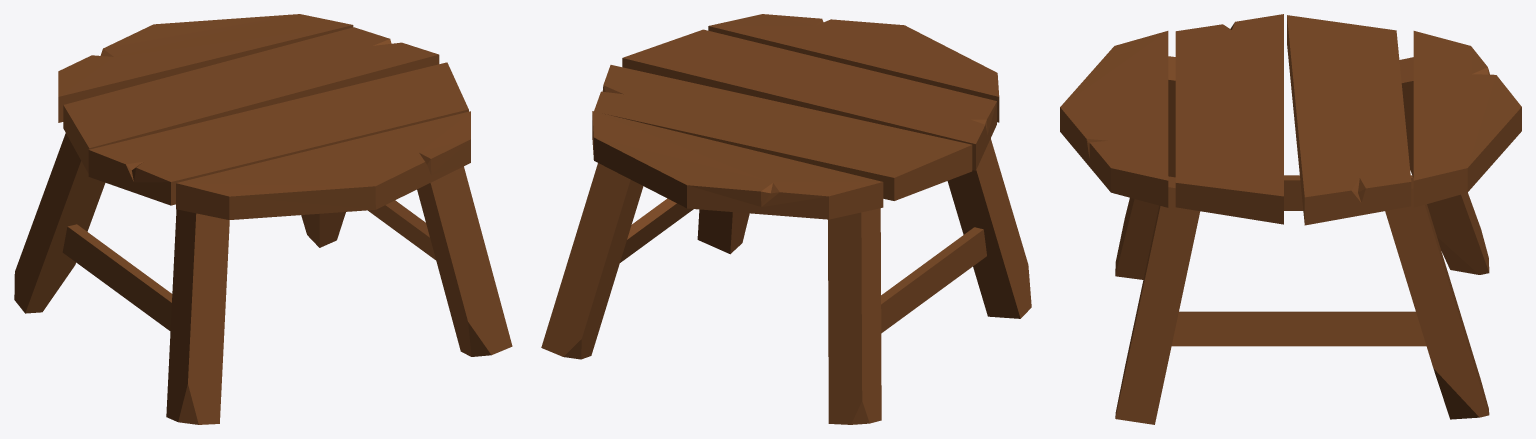
File: chair.FBX
The picture shows the model from 3 angles, left to right: view 1: azimuth 30°, elevation 25°; view 2: azimuth 150°, elevation 25°; view 3: azimuth 270°, elevation 25°; orthographic projection. The views are drawn at different scales.
Visible parts, largest first — view 1: Box020; view 2: Box020; view 3: Box020.
Part boxes in pixels (x1=…): Box020: x1=14, y1=14, x2=512, y2=424; Box020: x1=541, y1=14, x2=1031, y2=424; Box020: x1=1060, y1=14, x2=1521, y2=424.
Bounding box in the file's own units: 42.67 × 45.4 × 26.29.
